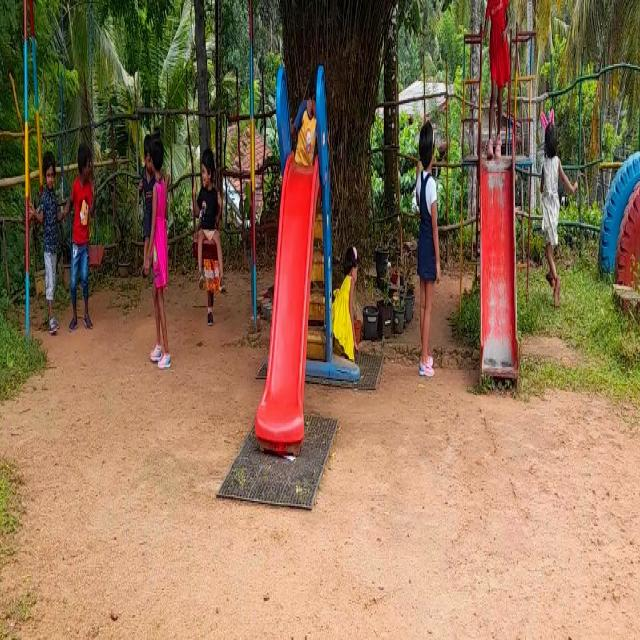child: (412, 102, 446, 385), (541, 85, 569, 308), (70, 131, 94, 329), (150, 126, 169, 370), (39, 132, 60, 343), (485, 0, 509, 155), (198, 125, 218, 292)
